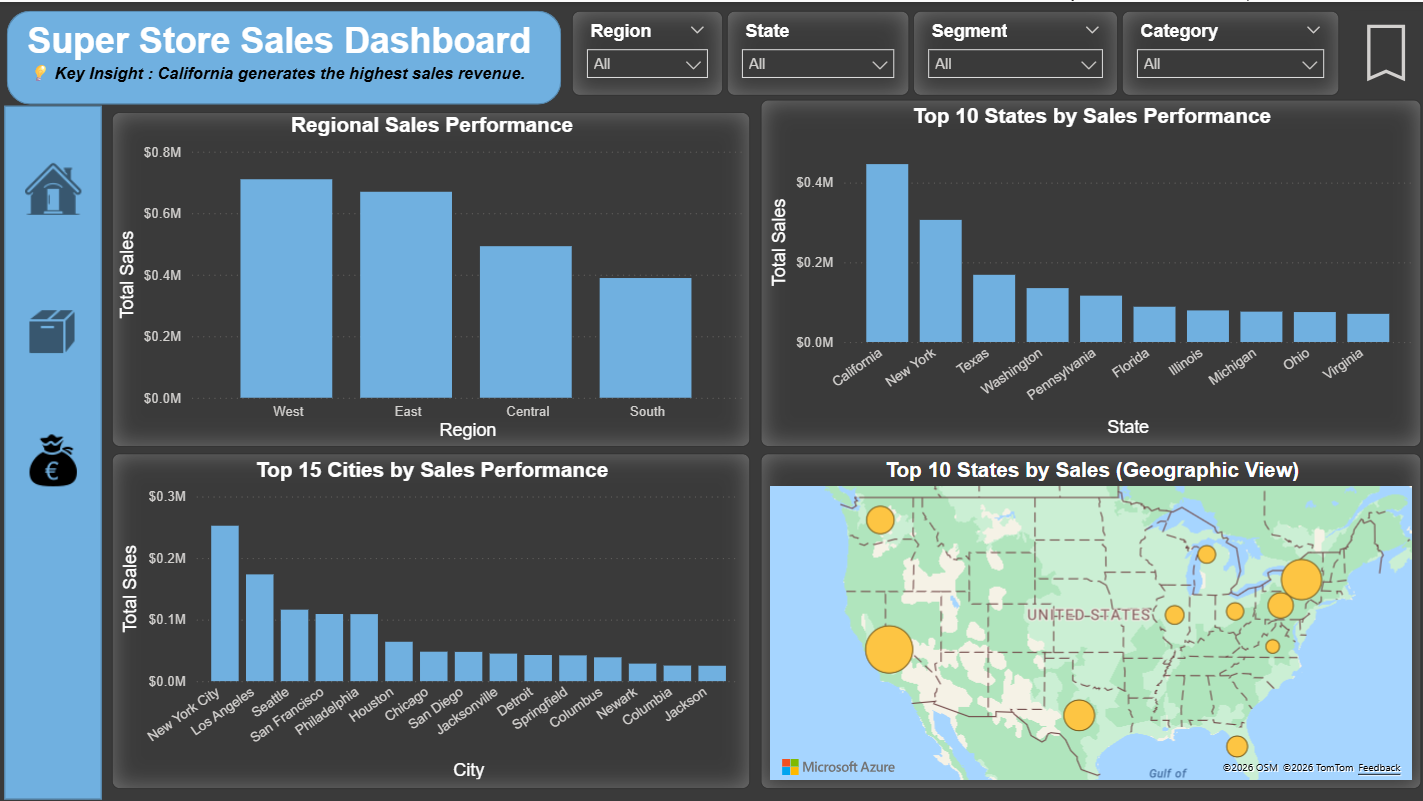

The page's visual inventory and layout, read from the dashboard file:
{"tool":"powerbi","page":{"name":"Sales by Location","canvas":[1280,720],"ordinal":2},"visuals":[{"type":"actionButton","box":[1208.1,8.1,64,75.6],"z":0},{"type":"shape","box":[5.6,92.7,87.1,619.7],"z":0,"group":"g1"},{"type":"slicer","fields":{"Values":["train (2).State"]},"box":[651,7.8,163,75.9],"z":2000},{"type":"slicer","fields":{"Values":["train (2).Segment"]},"box":[817.4,7.8,183.1,75.9],"z":3000},{"type":"shape","box":[8.1,8.1,495.4,83.7],"z":4000},{"type":"columnChart","title":"Top 15 Cities by Sales Performance","fields":{"Category":["train (2).City"],"Y":["Sum(train (2).Sales)"]},"box":[101.7,403.1,570.6,300.4],"z":4000},{"type":"slicer","fields":{"Values":["train (2).Category"]},"box":[1003.9,7.8,194.3,75.9],"z":5000},{"type":"columnChart","title":"Regional Sales Performance","fields":{"Y":["Sum(train (2).Sales)"],"Category":["train (2).Region"]},"box":[101.7,98.3,570.6,299.3],"z":6000},{"type":"slicer","fields":{"Values":["train (2).Region"]},"box":[512.5,7.8,135.1,75.9],"z":7000},{"type":"columnChart","title":"Top 10 States by Sales Performance","fields":{"Category":["train (2).State"],"Y":["Sum(train (2).Sales)"]},"box":[681.1,86.9,590.7,310.4],"z":8000},{"type":"group","id":"g1","title":"Group 1","box":[5.6,92.7,87.1,619.7],"z":9000},{"type":"azureMap","title":"Top 10 States by Sales (Geographic View)","fields":{"Category":["train (2).State"],"Size":["Sum(train (2).Sales)"]},"box":[681.1,403.1,590.7,300.4],"z":10000},{"type":"actionButton","title":"Home","box":[8.9,94.9,80.4,139.6],"z":11000},{"type":"actionButton","box":[7.8,224.4,80.4,139.6],"z":12000},{"type":"actionButton","box":[8.9,339.5,80.4,139.6],"z":13000},{"type":"textbox","box":[20.9,12.8,468.6,70.9],"z":13001}]}

Visuals, with their boxes in screenshot pixels (x1, y1, x2, y2), scaled from the page's 1280x720 canvas onto the 1423x801 screenshot:
actionButton: box=[1343, 9, 1414, 93]
shape: box=[6, 103, 103, 793]
slicer - train (2).State: box=[724, 9, 905, 93]
slicer - train (2).Segment: box=[909, 9, 1112, 93]
shape: box=[9, 9, 560, 102]
"Top 15 Cities by Sales Performance" columnChart: box=[113, 448, 747, 783]
slicer - train (2).Category: box=[1116, 9, 1332, 93]
"Regional Sales Performance" columnChart: box=[113, 109, 747, 442]
slicer - train (2).Region: box=[570, 9, 720, 93]
"Top 10 States by Sales Performance" columnChart: box=[757, 97, 1414, 442]
"Group 1" group: box=[6, 103, 103, 793]
"Top 10 States by Sales (Geographic View)" azureMap: box=[757, 448, 1414, 783]
"Home" actionButton: box=[10, 106, 99, 261]
actionButton: box=[9, 250, 98, 405]
actionButton: box=[10, 378, 99, 533]
textbox: box=[23, 14, 544, 93]
